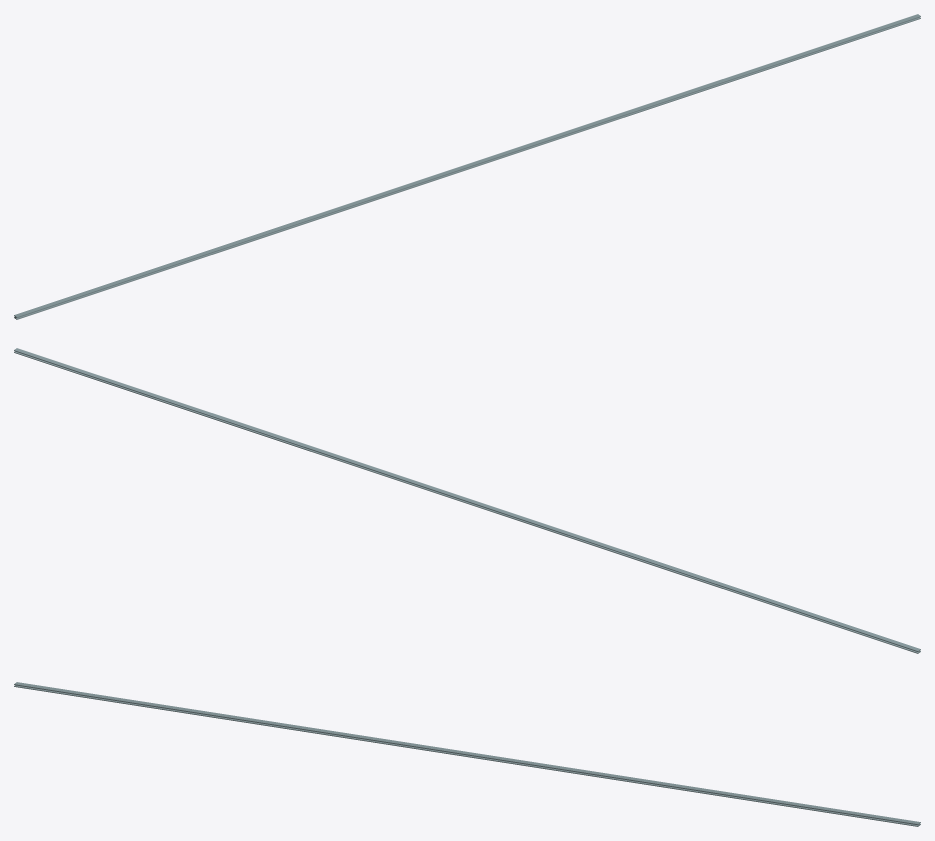
The model's file is RoadPlan_RampStructure_2L_Rise8_L110_ConstantGrade_Girder_-1.glb.
The picture shows the model from 3 angles, top to bottom: view 1: azimuth 30°, elevation 25°; view 2: azimuth 150°, elevation 25°; view 3: azimuth 330°, elevation 25°; orthographic projection.
Visible parts, largest first — view 1: RoadPlan_RampStructure_2L_Rise8_L110_ConstantGrade_Girder_-1; view 2: RoadPlan_RampStructure_2L_Rise8_L110_ConstantGrade_Girder_-1; view 3: RoadPlan_RampStructure_2L_Rise8_L110_ConstantGrade_Girder_-1.
Part boxes in pixels (x1,y1,x2,y2): RoadPlan_RampStructure_2L_Rise8_L110_ConstantGrade_Girder_-1: (14, 14, 920, 319); RoadPlan_RampStructure_2L_Rise8_L110_ConstantGrade_Girder_-1: (14, 348, 920, 653); RoadPlan_RampStructure_2L_Rise8_L110_ConstantGrade_Girder_-1: (14, 682, 920, 826).
Size of the model in its own units: 78 by 6.86 by 0.44.
